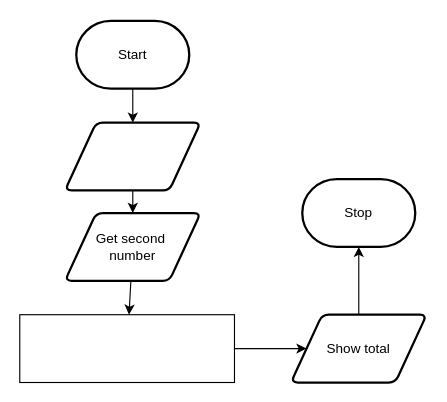
Some shapes in this 447 by 402 pixel diagram are drawn without their labels. Here are the shapes that lost their labels. From the top down, the centre of each, then its label:
At point (132, 156): "Get first number".
At point (126, 348): "sum = first_number + second_number".
